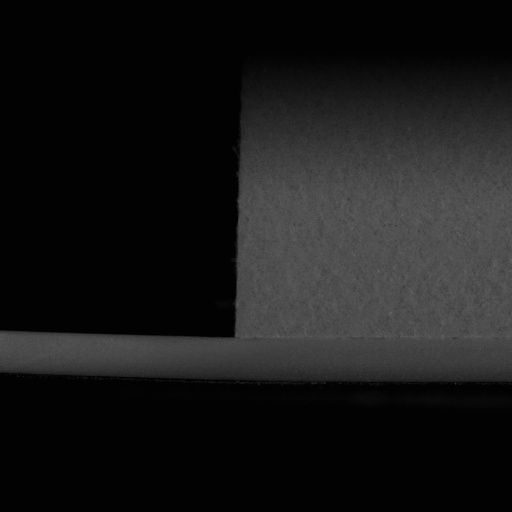changdai: (0, 332, 233, 384)
